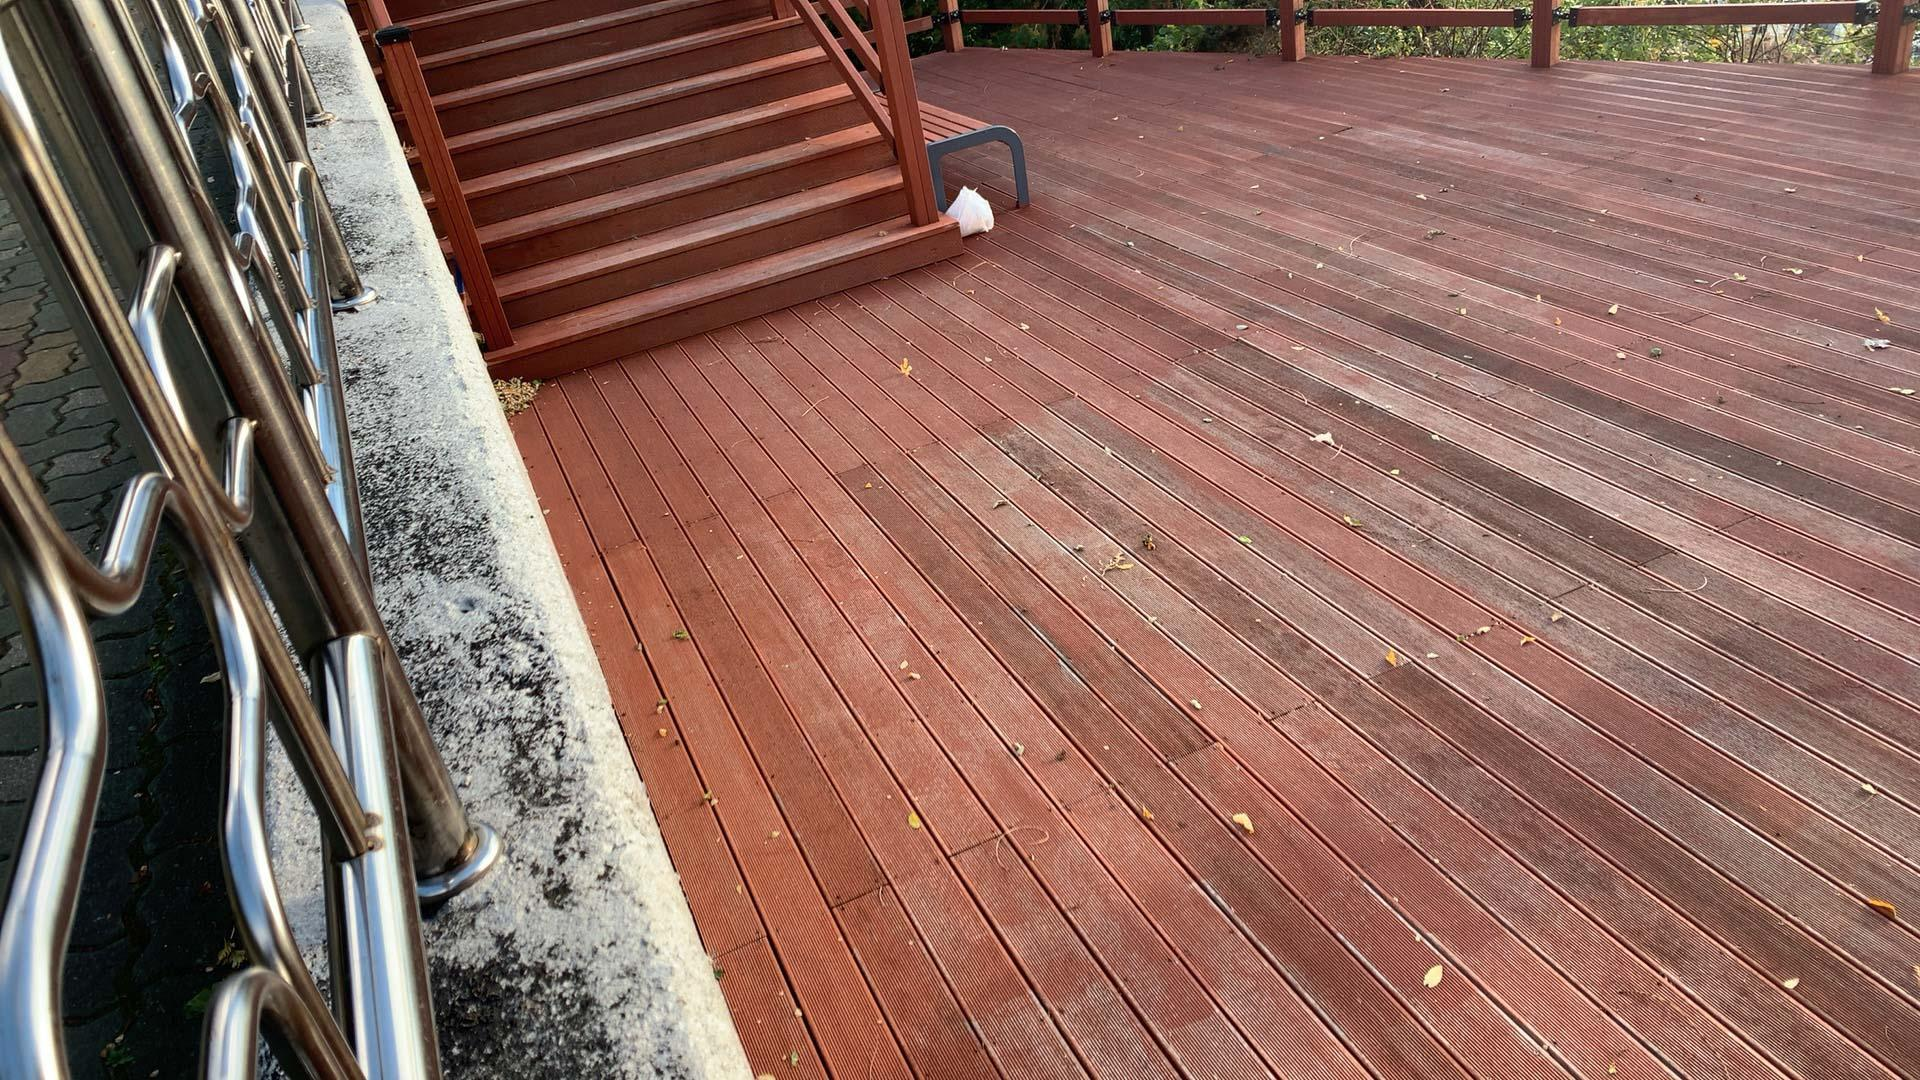white_bag: (934, 178, 1004, 239)
